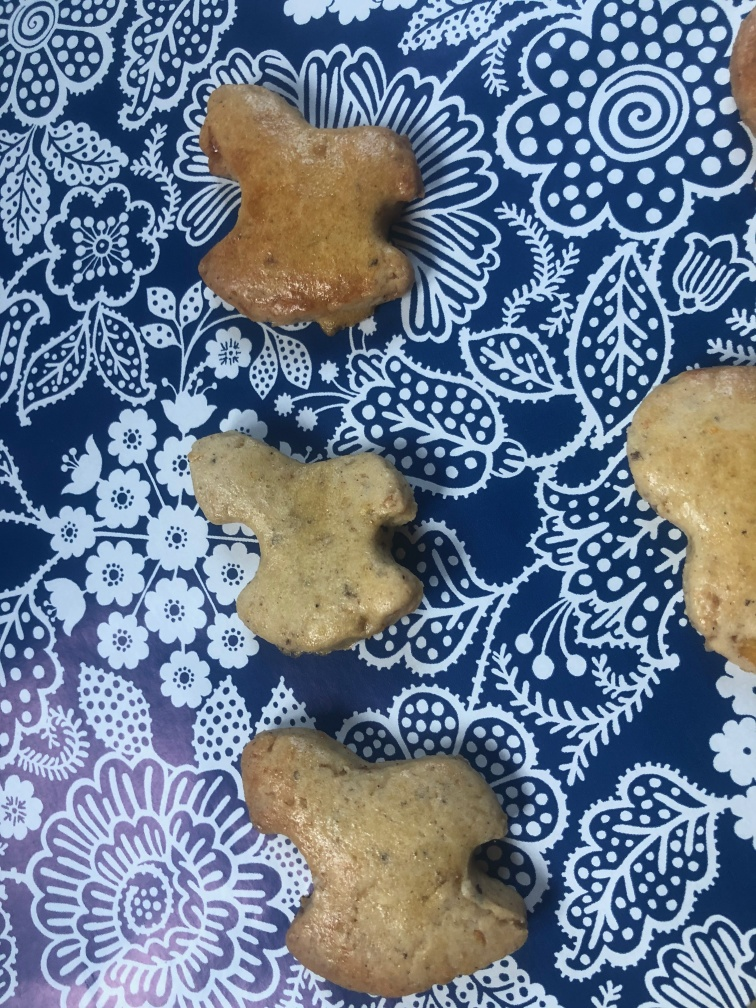lamb: (238, 727, 535, 1000), (195, 81, 416, 331), (189, 429, 415, 650)
